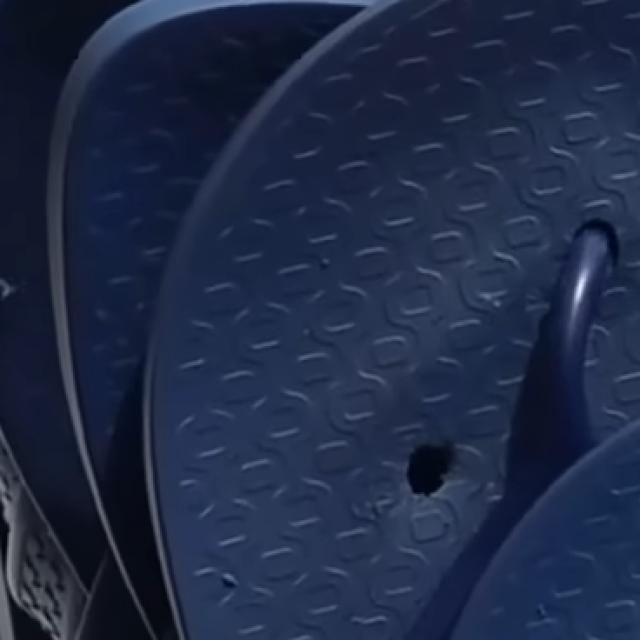bullets: (388, 434, 469, 513)
